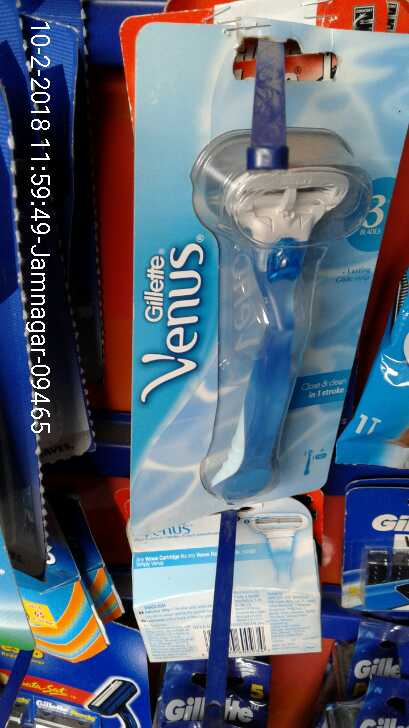venus: (139, 37, 356, 496)
